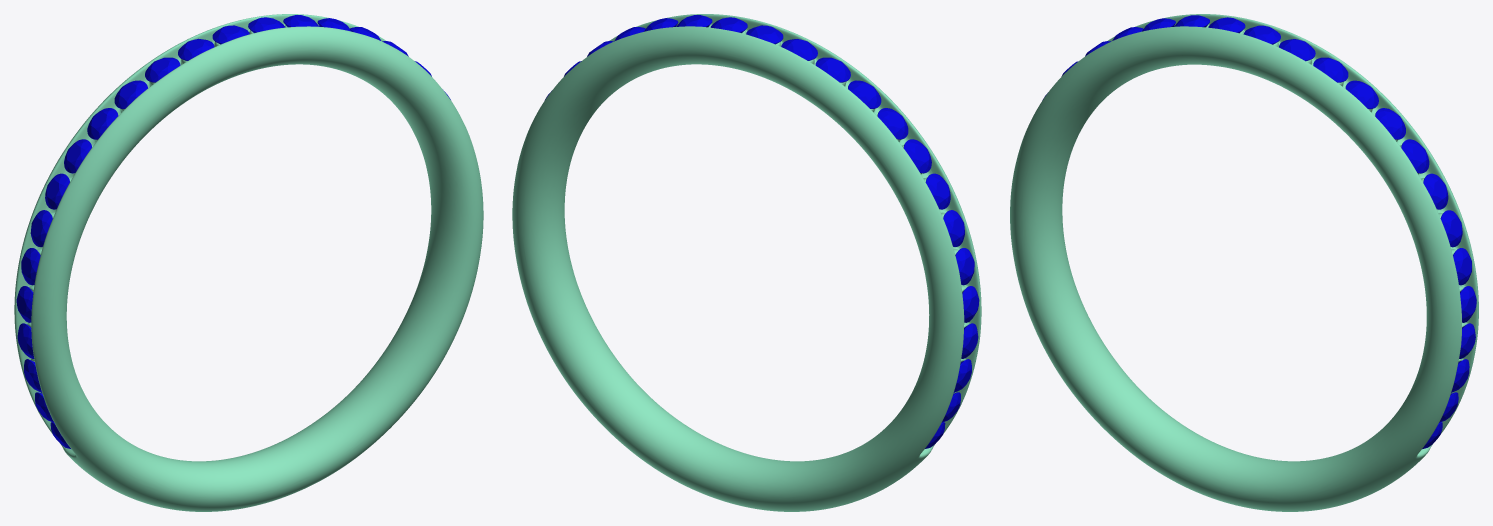
3 renders of one model, left to right at view 1: azimuth 30°, elevation 25°; view 2: azimuth 150°, elevation 25°; view 3: azimuth 330°, elevation 25°, orthographic.
Parts seen in each view (by area): view 1: Metal03, Diamond_Band.026, Diamond_Band.025, Diamond_Band.027, Diamond_Band.024, Diamond_Band.015, Diamond_Band.023, Diamond_Band.016; view 2: Metal03, Diamond_Band.026, Diamond_Band.025, Diamond_Band.027, Diamond_Band.024, Diamond_Band.023, Diamond_Band.015, Diamond_Band.016; view 3: Metal03, Diamond_Band.001, Diamond_Band, Diamond_Band.002, Diamond_Band.003, Diamond_Band.012, Diamond_Band.004, Diamond_Band.011, Diamond_Band.005.
Part boxes in pixels (x1,y1,x2,y2): Metal03: (14,14,483,511); Diamond_Band.026: (64,139,91,173); Diamond_Band.025: (87,108,118,139); Diamond_Band.027: (45,173,69,209); Diamond_Band.024: (114,80,147,108); Diamond_Band.015: (30,210,52,246); Diamond_Band.023: (145,57,180,82); Diamond_Band.016: (21,248,40,285); Metal03: (512,14,981,511); Diamond_Band.026: (903,139,931,173); Diamond_Band.025: (877,108,908,139); Diamond_Band.027: (925,173,950,209); Diamond_Band.024: (848,80,881,108); Diamond_Band.023: (815,57,850,82); Diamond_Band.015: (943,210,964,246); Diamond_Band.016: (955,248,974,285); Metal03: (1010,14,1478,511); Diamond_Band.001: (1401,139,1429,173); Diamond_Band: (1423,173,1448,209); Diamond_Band.002: (1375,108,1405,139); Diamond_Band.003: (1345,80,1378,109); Diamond_Band.012: (1440,210,1462,247); Diamond_Band.004: (1313,57,1348,82); Diamond_Band.011: (1453,248,1471,285); Diamond_Band.005: (1279,39,1315,61).
Bounding box in the file's own units: 21.14 × 21.21 × 2.48.
